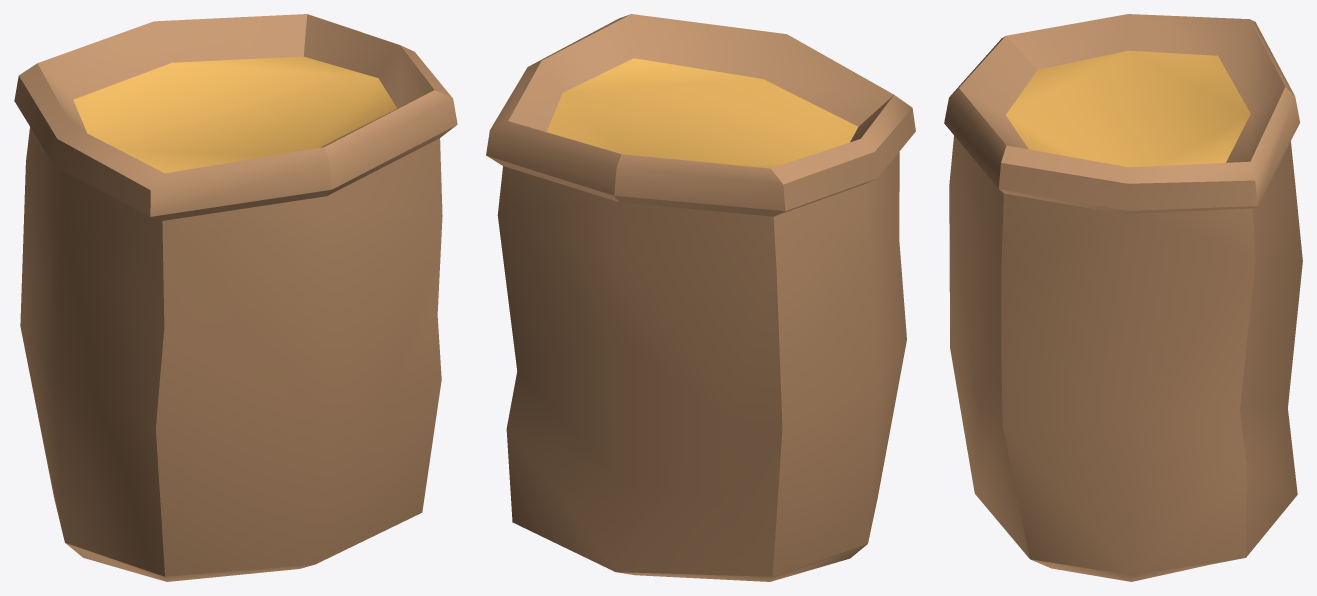
Rendered from Bag_01.fbx.
3 renders of one model, left to right at view 1: azimuth 30°, elevation 25°; view 2: azimuth 150°, elevation 25°; view 3: azimuth 270°, elevation 25°, orthographic. The views are drawn at different scales.
Parts seen in each view (by area): view 1: Bag_01; view 2: Bag_01; view 3: Bag_01.
Boxes of the visible parts, x1,y1,x2,y2 form: Bag_01: [14, 14, 457, 581]; Bag_01: [486, 14, 915, 581]; Bag_01: [944, 14, 1302, 581].
Size of the model in its own units: 56.3 by 66.28 by 50.16.
